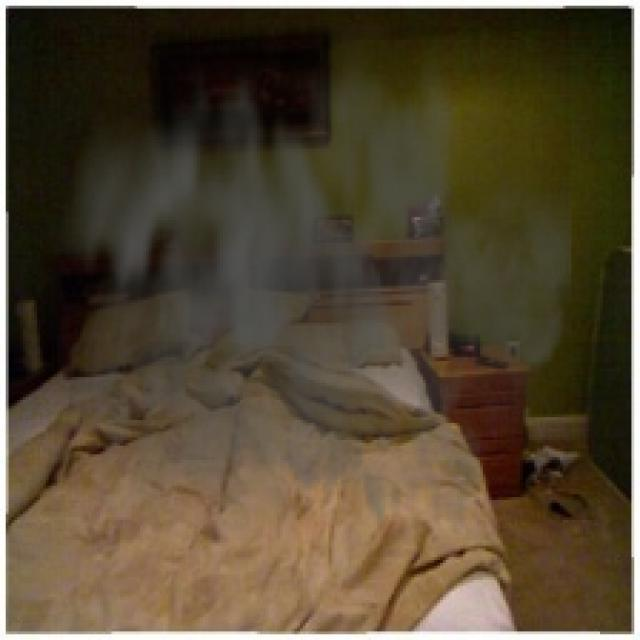Smoke: (26, 26, 572, 588)
